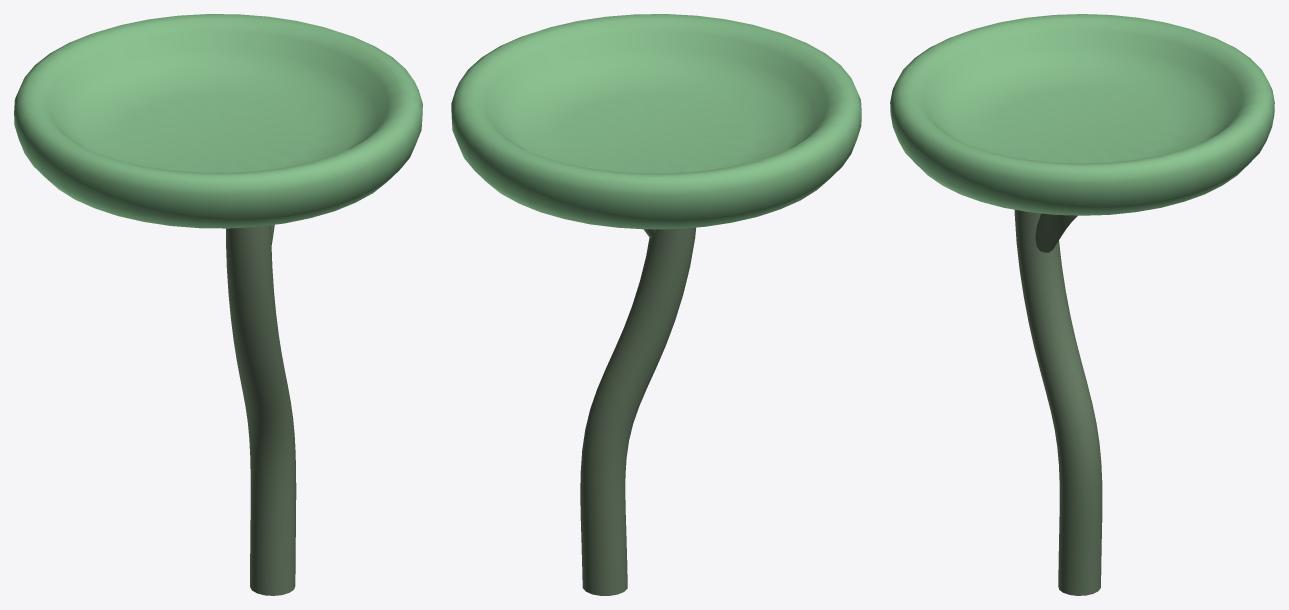
Rendered from birdbath_lilypad1.fbx.
3 renders of one model, left to right at view 1: azimuth 30°, elevation 25°; view 2: azimuth 150°, elevation 25°; view 3: azimuth 270°, elevation 25°, orthographic. The views are drawn at different scales.
Parts seen in each view (by area): view 1: Circle.001; view 2: Circle.001; view 3: Circle.001.
Boxes of the visible parts, box(x1,y1,x2,y2) form: Circle.001: box(14, 14, 422, 595); Circle.001: box(451, 14, 861, 595); Circle.001: box(890, 14, 1274, 595).
Bounding box in the file's own units: 198 × 268 × 198.
